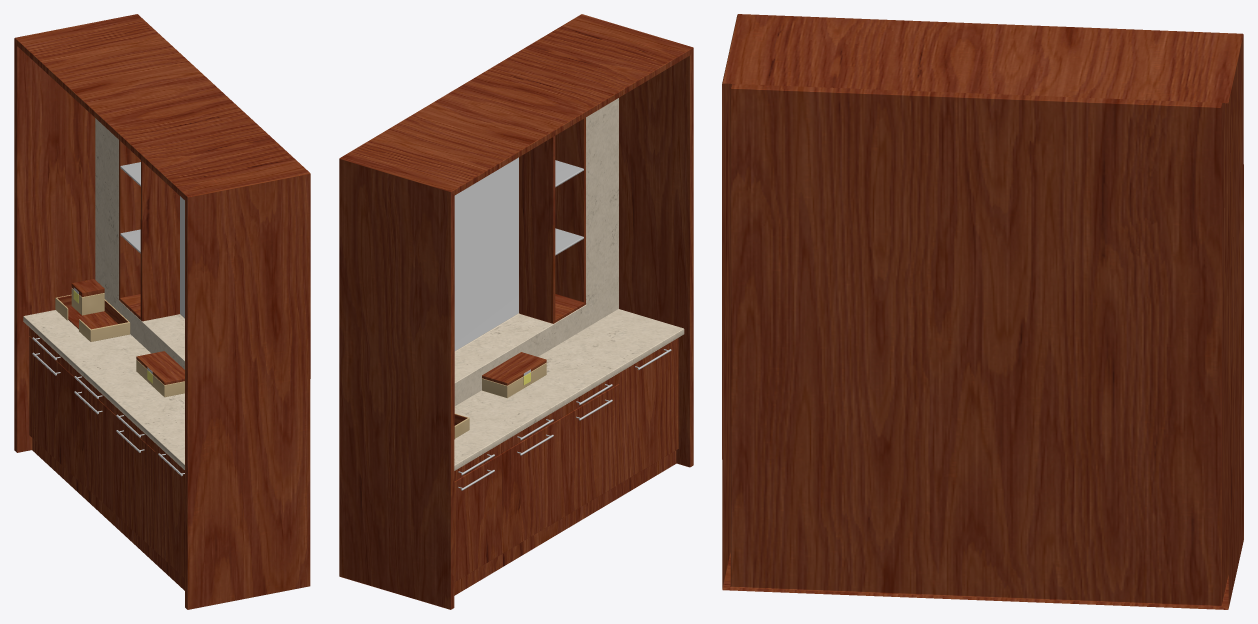
File: Cabinet.fbx
3 views of the same model, side by side, from view 1: azimuth 30°, elevation 25°; view 2: azimuth 150°, elevation 25°; view 3: azimuth 270°, elevation 25° (orthographic). The views are drawn at different scales.
Visible parts, largest first — view 1: SM_Cabinets; view 2: SM_Cabinets; view 3: SM_Cabinets.
Boxes of the visible parts, bbox=[...] form: SM_Cabinets: bbox=[14, 14, 310, 609]; SM_Cabinets: bbox=[339, 14, 693, 609]; SM_Cabinets: bbox=[722, 14, 1243, 609].
Size of the model in its own units: 103 by 270 by 252.
